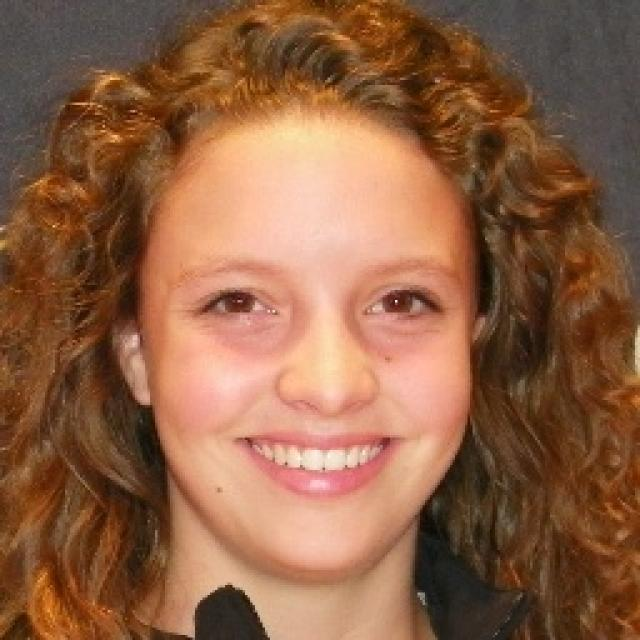earlobe: (107, 295, 155, 409)
